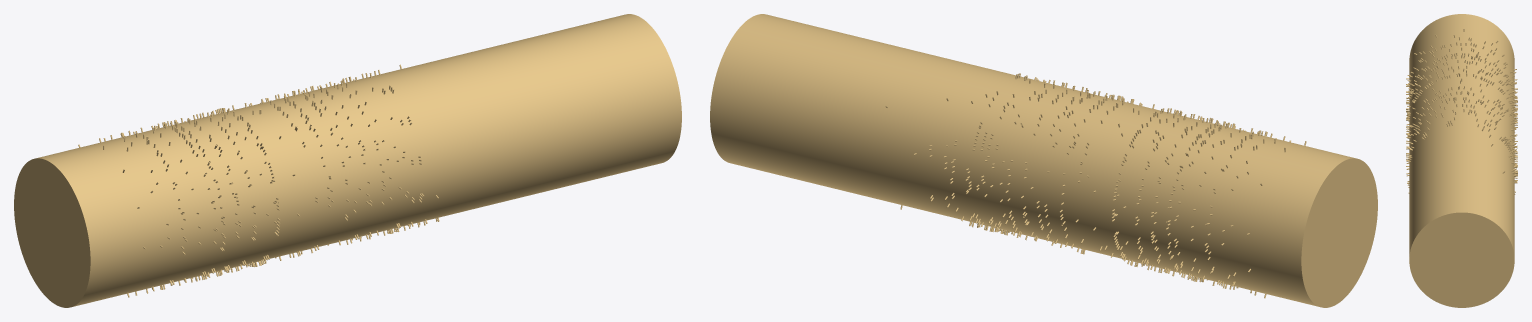
File: Three-classics-indexed.glb
3 views of the same model, side by side, from view 1: azimuth 30°, elevation 25°; view 2: azimuth 150°, elevation 25°; view 3: azimuth 270°, elevation 25° (orthographic). The views are drawn at different scales.
Parts seen in each view (by area): view 1: cylinder_body; view 2: cylinder_body; view 3: cylinder_body.
Part boxes in pixels (x1,y1,x2,y2): cylinder_body: [14, 14, 681, 307]; cylinder_body: [710, 14, 1377, 307]; cylinder_body: [1409, 14, 1514, 307].
Bounding box in the file's own units: 0.214 × 0.051 × 0.051.
